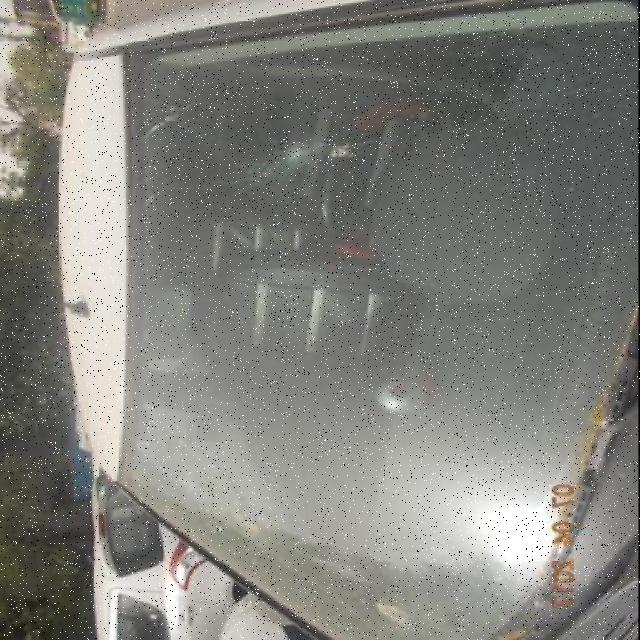damage: (146, 448, 217, 511), (267, 127, 332, 174)
